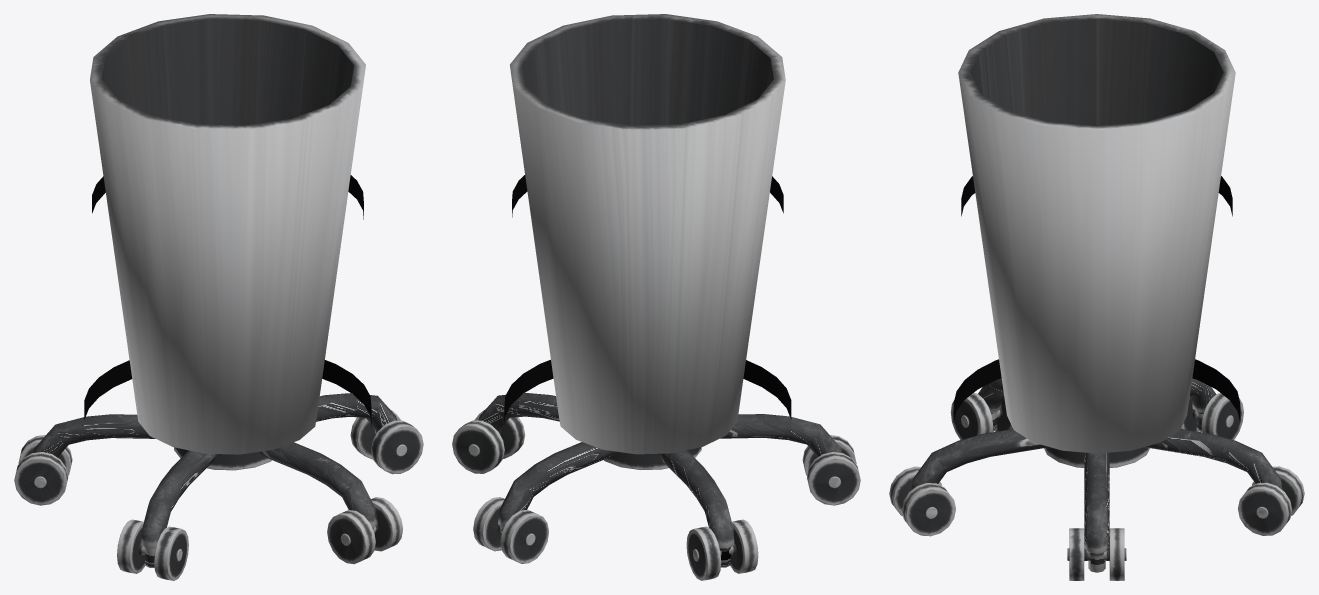
The picture shows the model from 3 angles, left to right: view 1: azimuth 30°, elevation 25°; view 2: azimuth 150°, elevation 25°; view 3: azimuth 270°, elevation 25°; orthographic projection.
Visible parts, largest first — view 1: D-2; view 2: D-2; view 3: D-2.
Part boxes in pixels (box(x1,y1,x2,y2)): D-2: box(14, 14, 423, 580); D-2: box(452, 14, 860, 580); D-2: box(889, 14, 1304, 580).
Size of the model in its own units: 41.8 by 49.94 by 43.88.
